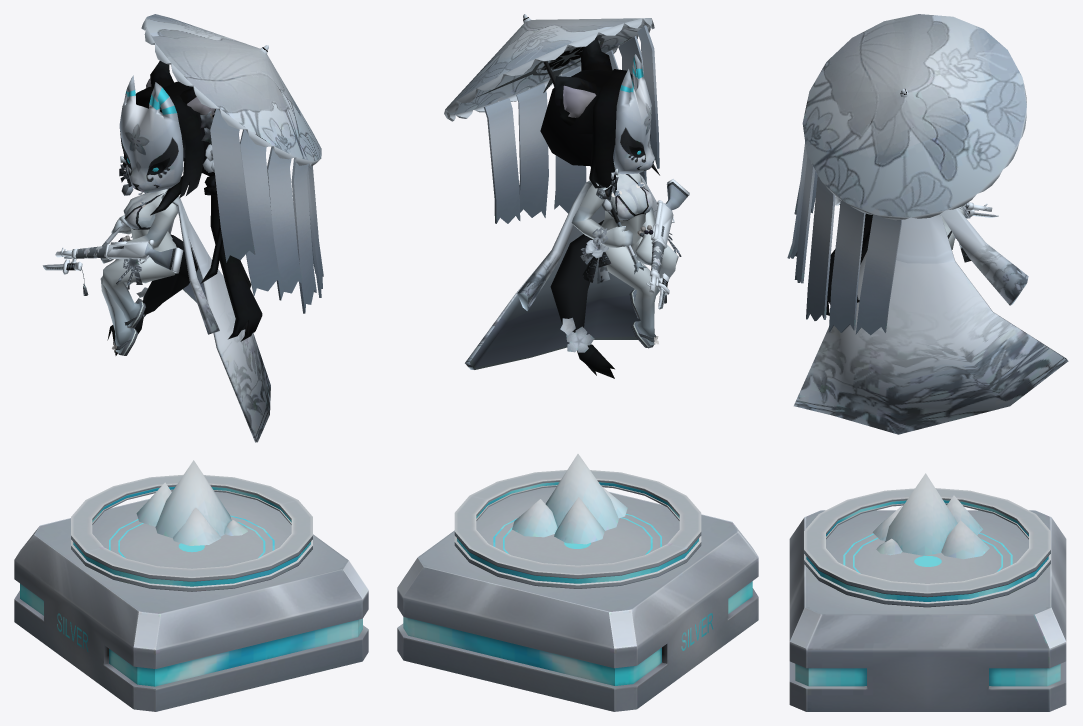
The model's file is my_trophy_Wakamo_Swimsuit_outdoor_silver.glb.
3 views of the same model, side by side, from view 1: azimuth 30°, elevation 25°; view 2: azimuth 150°, elevation 25°; view 3: azimuth 270°, elevation 25° (orthographic).
Visible parts, largest first — view 1: my_trophy_Wakamo_Swimsuit_outdoor_silver; view 2: my_trophy_Wakamo_Swimsuit_outdoor_silver; view 3: my_trophy_Wakamo_Swimsuit_outdoor_silver.
Boxes of the visible parts, left/top/right/bottom form: my_trophy_Wakamo_Swimsuit_outdoor_silver: left=14, top=14, right=368, bottom=711; my_trophy_Wakamo_Swimsuit_outdoor_silver: left=397, top=14, right=758, bottom=711; my_trophy_Wakamo_Swimsuit_outdoor_silver: left=787, top=14, right=1068, bottom=711.
Size of the model in its own units: 0.00391 by 0.00966 by 0.00397.
3 materials, 3 textured.
